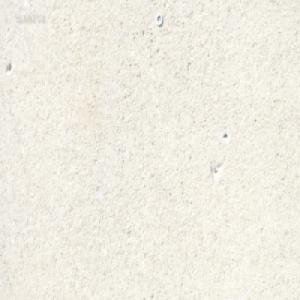Washer: (155, 13, 162, 27)
